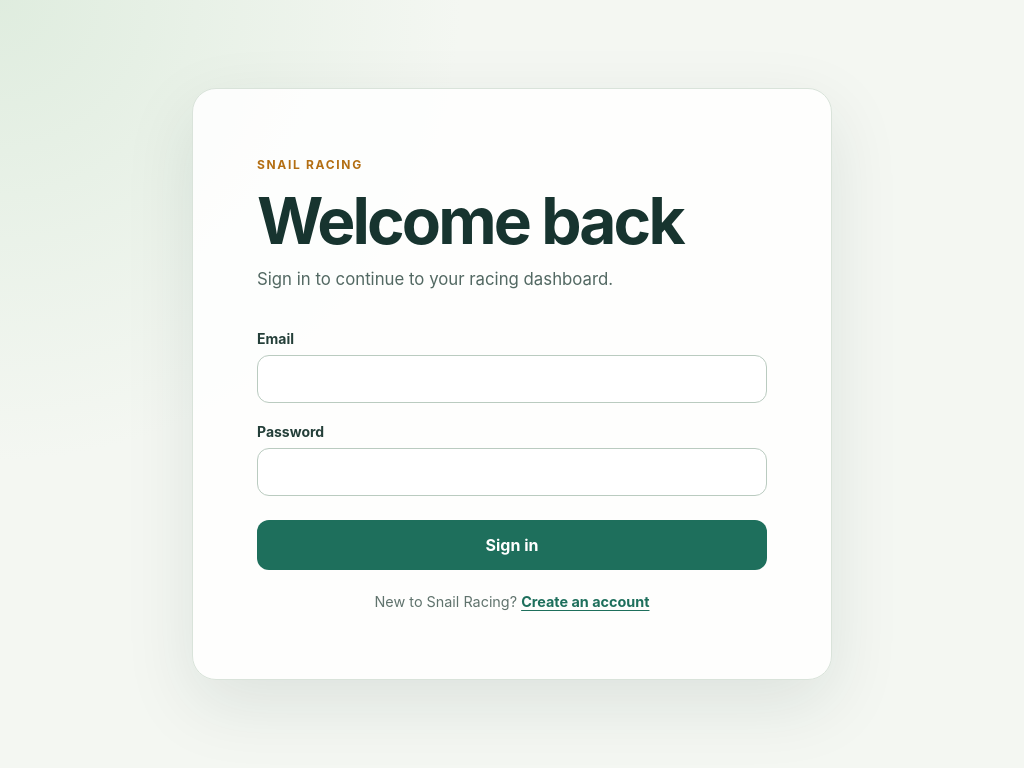
Scenario: LoginPage › uses the same generic error for an unknown email
Type "unknown@example.com" into the field labelled "Email" at (512,379), box [257,355,767,403]
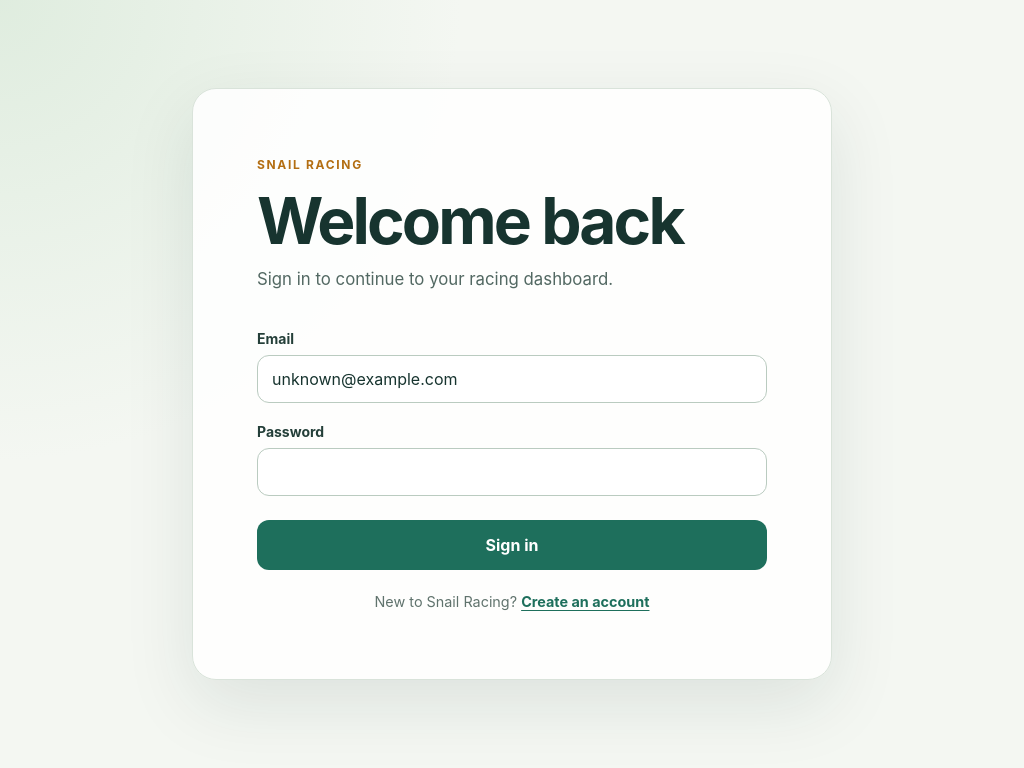
Type "Caracol123" into the password field labelled "Password" at (512,472), box [257,448,767,496]
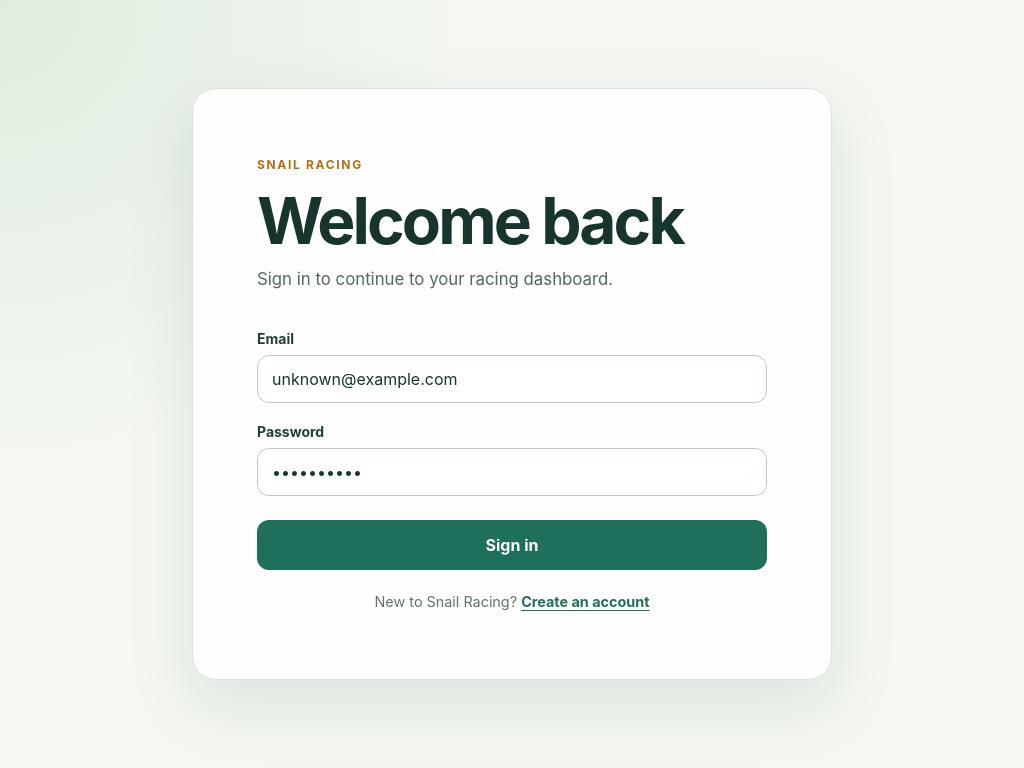
Click the button "Sign in" at (512,545), box [257,520,767,570]
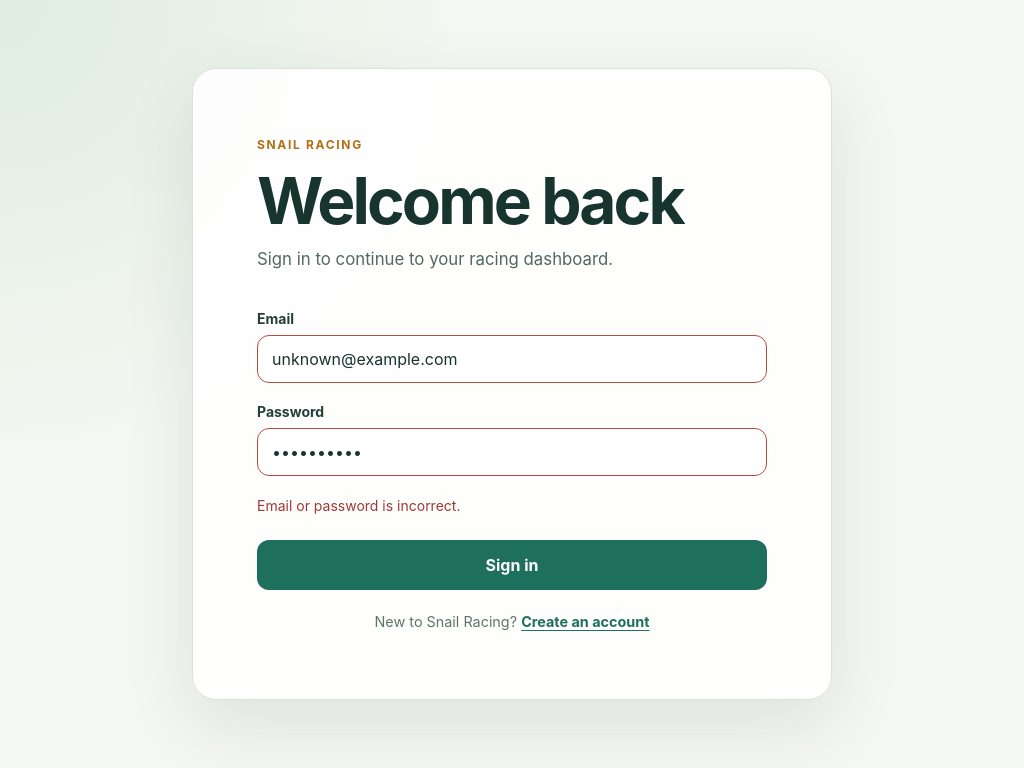
Now the text "Email or password is incorrect." is shown, box [257,497,460,514]
